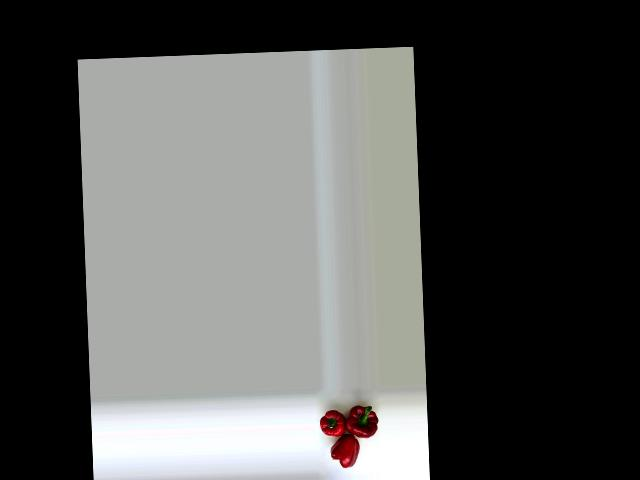bell_pepper: (324, 432, 363, 472)
